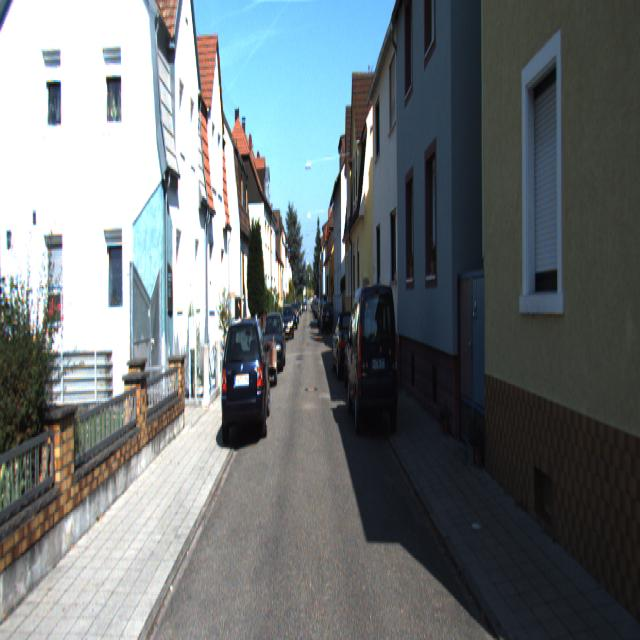Car: (345, 280, 399, 440), (220, 314, 270, 452), (332, 309, 364, 384), (262, 310, 285, 376), (282, 302, 294, 338)
DontCare: (294, 288, 328, 340)
Misc: (252, 336, 278, 391)
